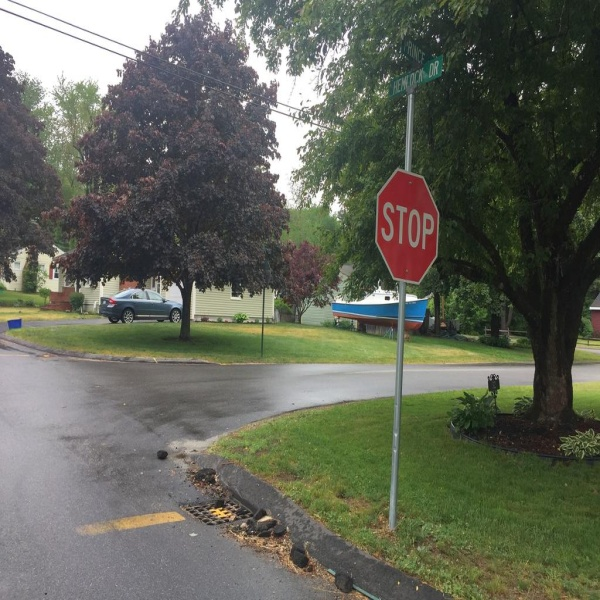stop: (368, 174, 445, 284)
